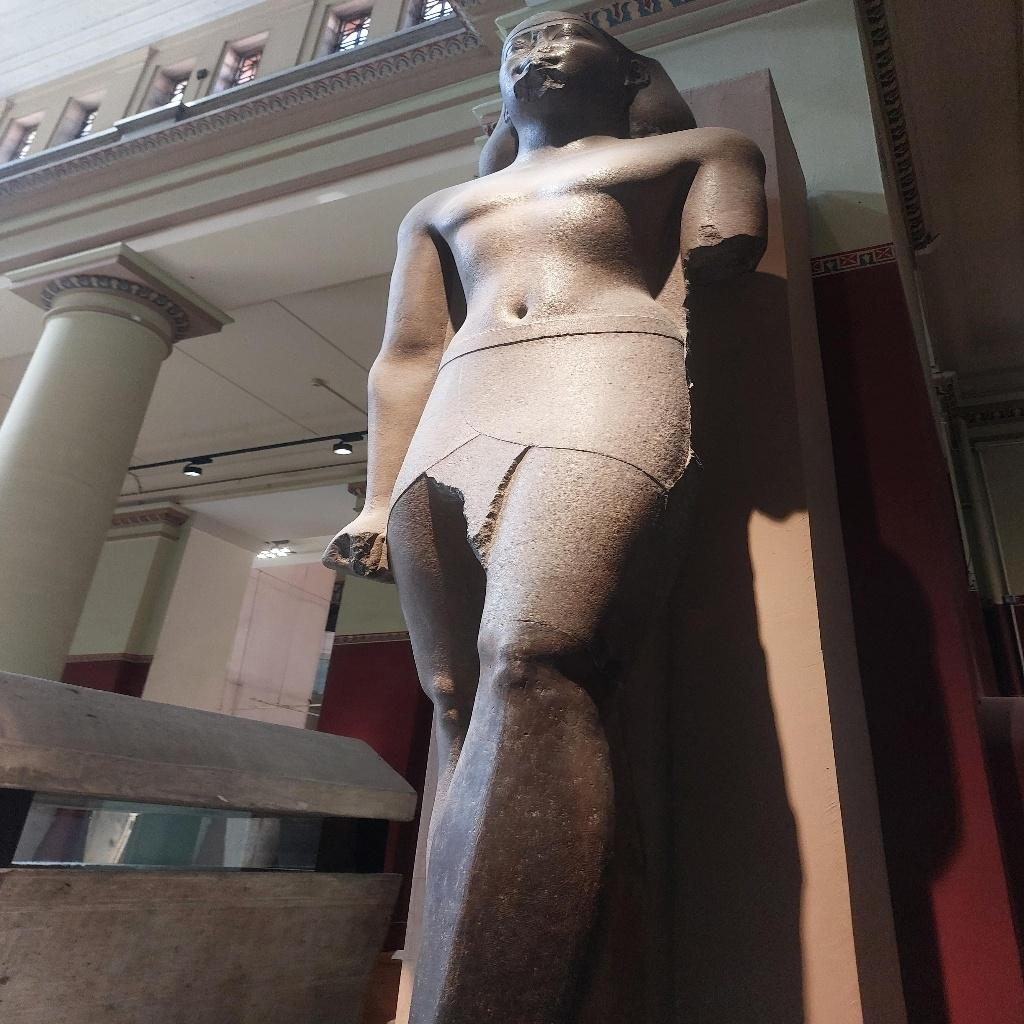Colossal Statue of Hormoheb: (318, 9, 776, 1019)
